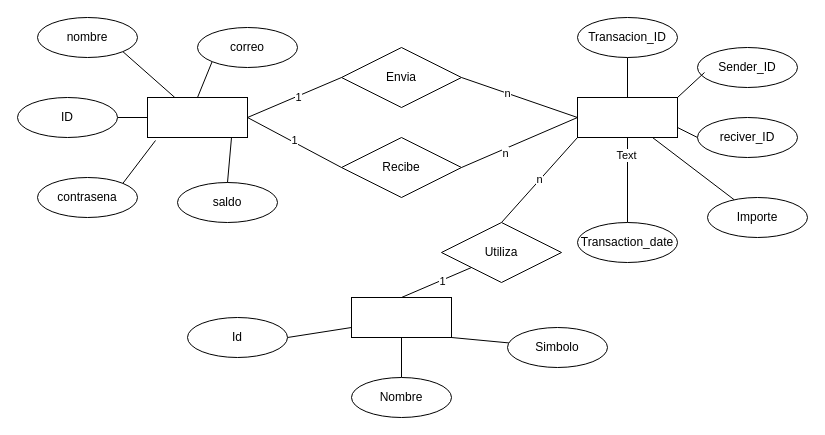
Some shapes in this 825 by 435 pixel diagram are drawn without their labels. The shapes that lost their labels are listed below. From the top down, each one's centre as x and y in pixels, then its label:
At (x=197, y=117): "Usuarios".
At (x=627, y=117): "Transaccion".
At (x=401, y=317): "Moneda".
